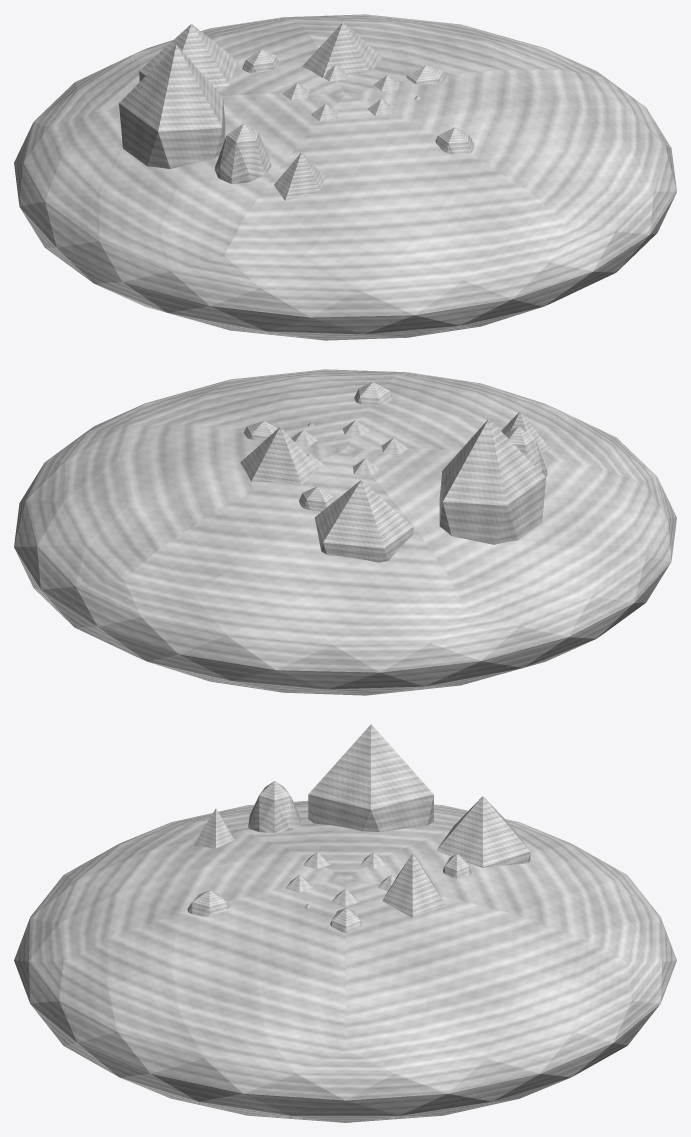
The model's file is coal_node_variant_b.glb.
The picture shows the model from 3 angles, top to bottom: view 1: azimuth 30°, elevation 25°; view 2: azimuth 150°, elevation 25°; view 3: azimuth 270°, elevation 25°; orthographic projection.
Parts seen in each view (by area): view 1: Resource node bedrock.001, Exposed ore formation.015, Exposed ore formation.014, Exposed ore formation.016, Exposed ore formation.012, Exposed ore formation.017, Exposed ore formation.019, Exposed ore formation.013, Exposed ore formation.010; view 2: Resource node bedrock.001, Exposed ore formation.015, Exposed ore formation.014, Exposed ore formation.012, Exposed ore formation.016, Exposed ore formation.019, Exposed ore formation.013, Exposed ore formation.017; view 3: Resource node bedrock.001, Exposed ore formation.015, Exposed ore formation.014, Exposed ore formation.012, Exposed ore formation.016, Exposed ore formation.017, Exposed ore formation.019.
Part boxes in pixels (<box>): Resource node bedrock.001: <box>14,14,676,340</box>; Exposed ore formation.015: <box>119,45,225,168</box>; Exposed ore formation.014: <box>139,24,237,88</box>; Exposed ore formation.016: <box>214,123,271,183</box>; Exposed ore formation.012: <box>302,22,382,77</box>; Exposed ore formation.017: <box>274,152,324,200</box>; Exposed ore formation.019: <box>435,127,474,154</box>; Exposed ore formation.013: <box>242,49,279,72</box>; Exposed ore formation.010: <box>406,65,446,84</box>; Resource node bedrock.001: <box>14,369,676,695</box>; Exposed ore formation.015: <box>439,419,546,544</box>; Exposed ore formation.014: <box>314,480,413,562</box>; Exposed ore formation.012: <box>240,426,318,485</box>; Exposed ore formation.016: <box>504,426,547,476</box>; Exposed ore formation.019: <box>354,382,393,404</box>; Exposed ore formation.013: <box>299,486,334,511</box>; Exposed ore formation.017: <box>501,412,551,452</box>; Resource node bedrock.001: <box>14,800,676,1122</box>; Exposed ore formation.015: <box>308,724,433,831</box>; Exposed ore formation.014: <box>436,796,530,867</box>; Exposed ore formation.012: <box>382,853,445,917</box>; Exposed ore formation.016: <box>248,781,300,832</box>; Exposed ore formation.017: <box>194,808,234,848</box>; Exposed ore formation.019: <box>187,890,229,916</box>.
Size of what is drawn, in the model's own units: 6.2 by 2.51 by 6.2.
Materials: 2 (2 with a texture image).
